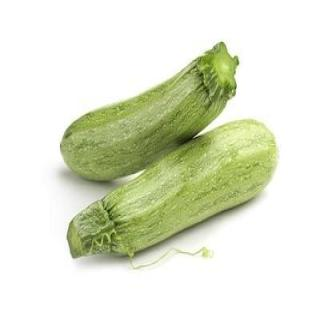Zucchini: (68, 120, 277, 257), (61, 44, 238, 181)
